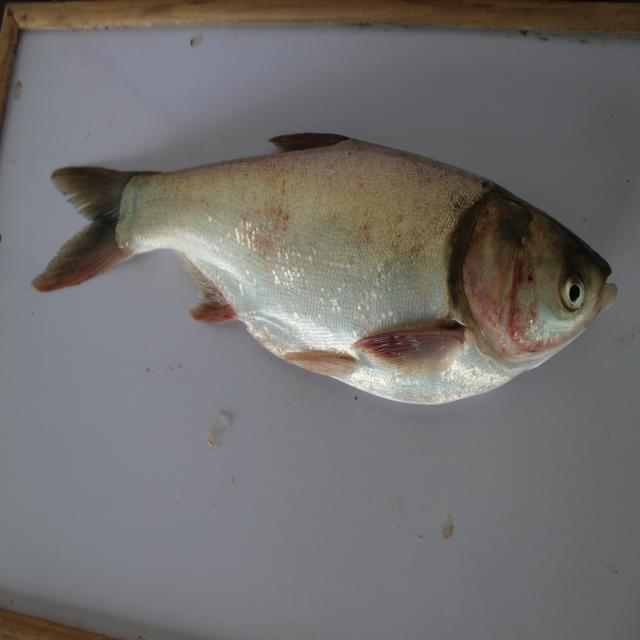SilverCarp: (39, 143, 622, 410)
